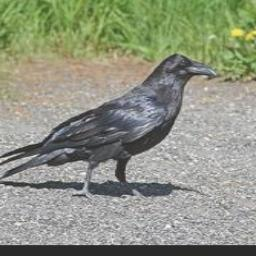Crow: (0, 52, 218, 204)
